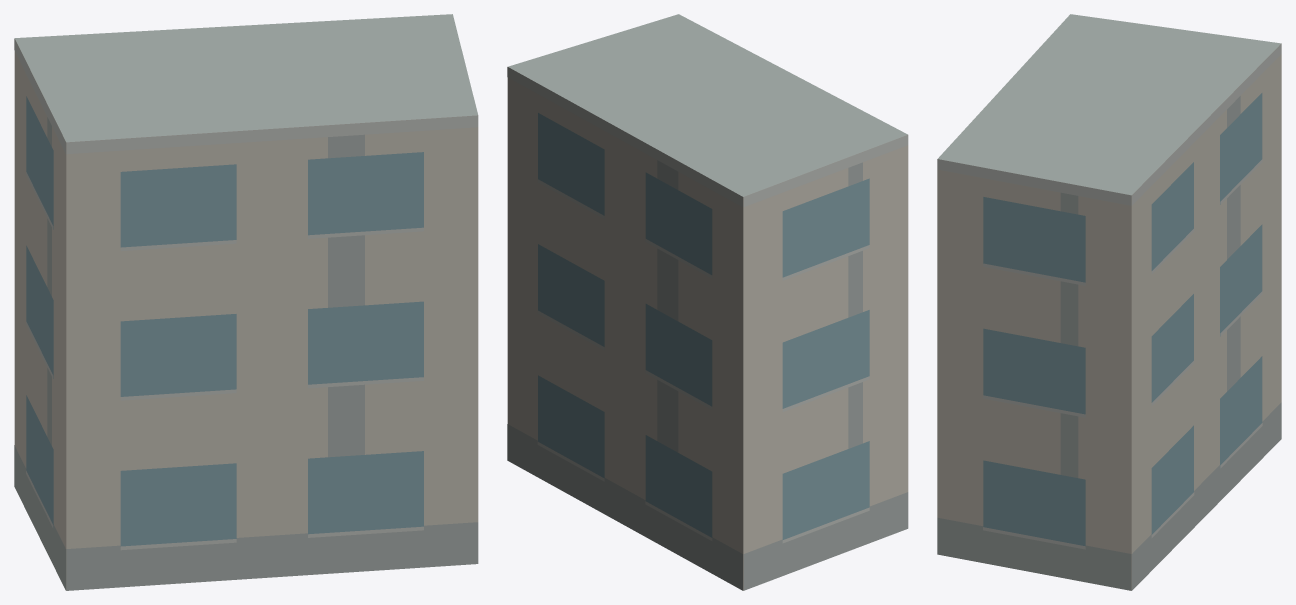
File: survey-upis-32971583.glb
3 views of the same model, side by side, from view 1: azimuth 30°, elevation 25°; view 2: azimuth 150°, elevation 25°; view 3: azimuth 270°, elevation 25° (orthographic). The views are drawn at different scales.
Visible parts, largest first — view 1: survey-upis-32971583.tmp; view 2: survey-upis-32971583.tmp; view 3: survey-upis-32971583.tmp.
Boxes of the visible parts, box(x1,y1,x2,y2) form: survey-upis-32971583.tmp: box(14, 14, 478, 590); survey-upis-32971583.tmp: box(507, 14, 908, 590); survey-upis-32971583.tmp: box(937, 14, 1281, 590).
Size of the model in its own units: 9.01 by 9.15 by 7.23.
